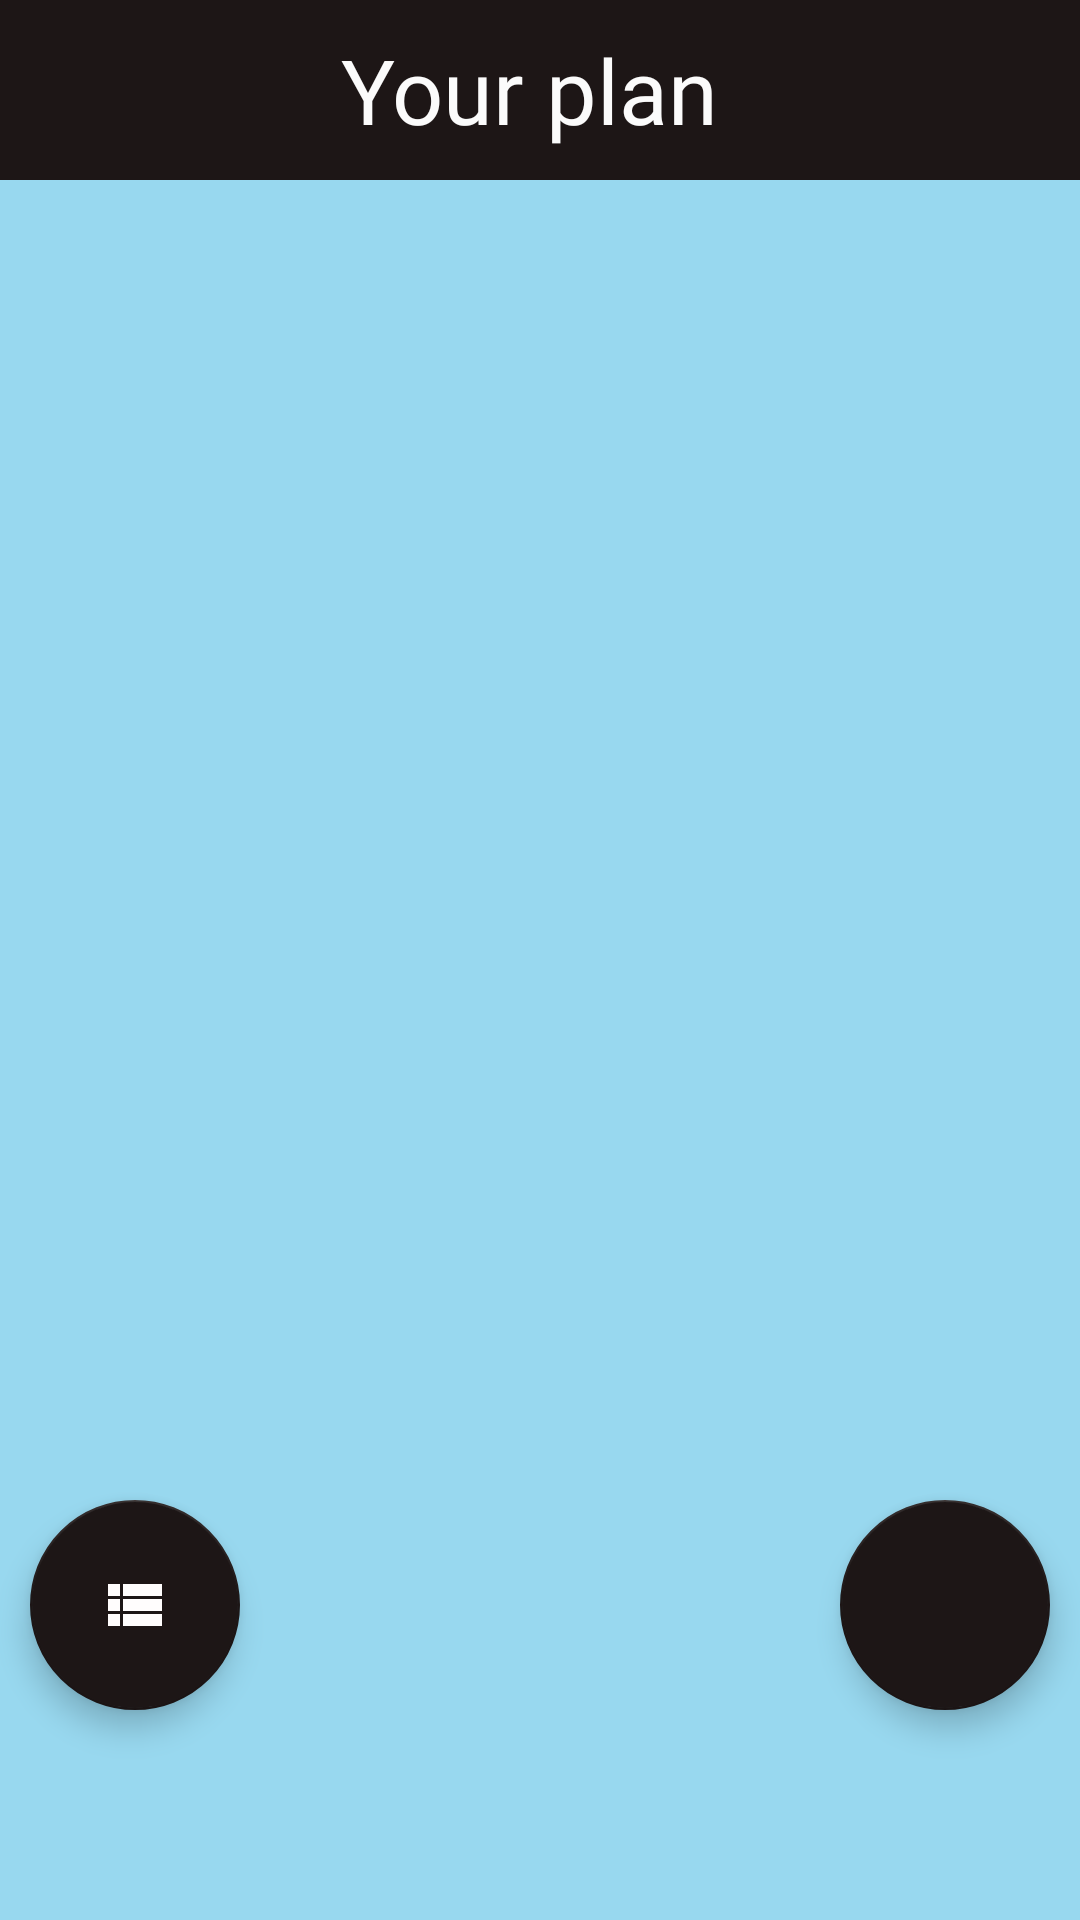

Screen size 1080×1920. Icon name, then its center in pixels as point (x, y):
view list: point (135, 1605)
